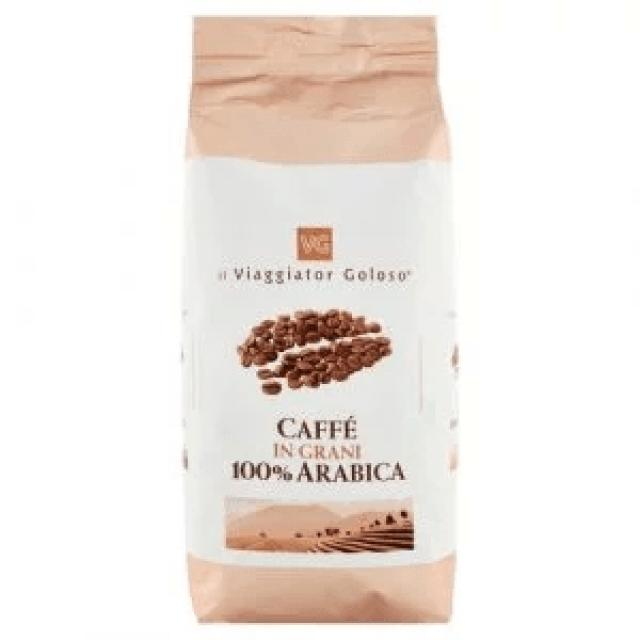coffee: (181, 15, 461, 627)
